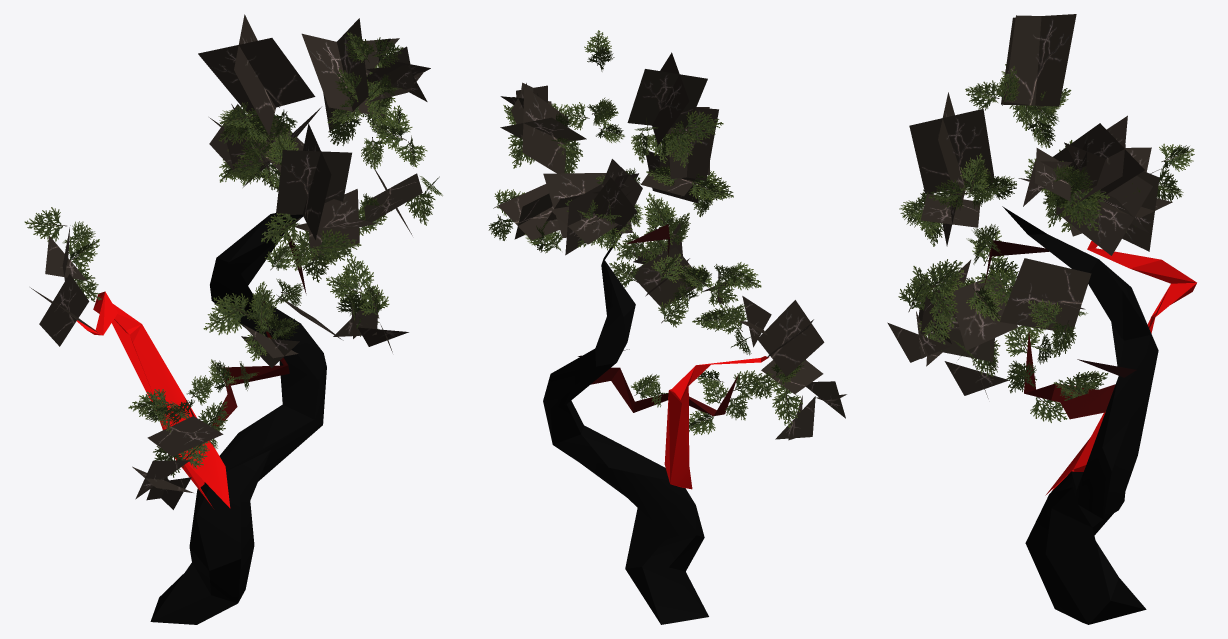
The model's file is cpine1 lod3.FBX.
The picture shows the model from 3 angles, left to right: view 1: azimuth 30°, elevation 25°; view 2: azimuth 150°, elevation 25°; view 3: azimuth 270°, elevation 25°; orthographic projection. The views are drawn at different scales.
Parts seen in each view (by area): view 1: cpine1_LOD3; view 2: cpine1_LOD3; view 3: cpine1_LOD3.
Part boxes in pixels (<box>): cpine1_LOD3: <box>24,14,442,624</box>; cpine1_LOD3: <box>488,30,846,624</box>; cpine1_LOD3: <box>887,14,1196,624</box>.
Size of the model in its own units: 79977 by 114183 by 56167.
